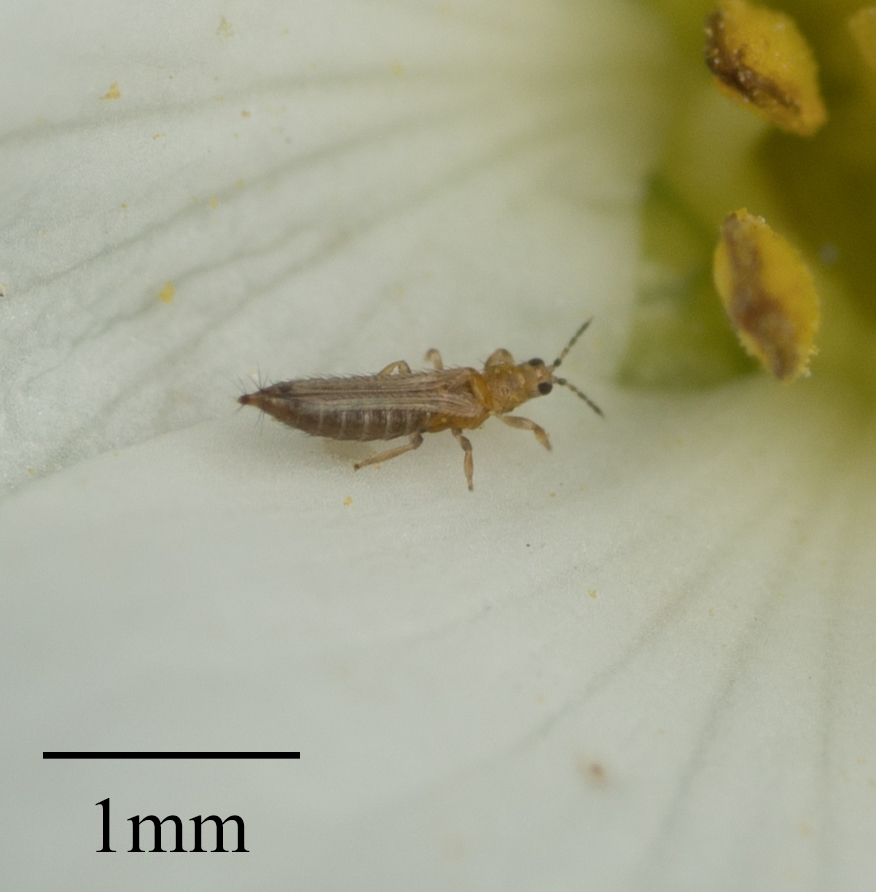tiny_pests: (180, 258, 686, 554)
